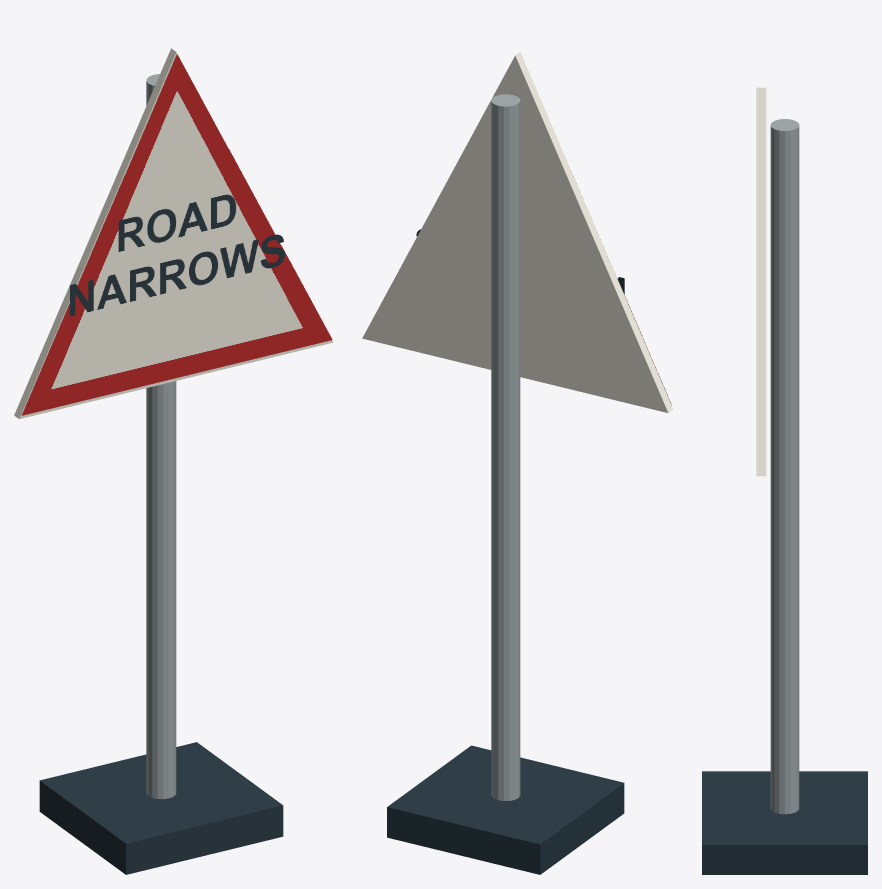
Rendered from scendance-plan-road-narrows.glb.
3 views of the same model, side by side, from view 1: azimuth 30°, elevation 25°; view 2: azimuth 150°, elevation 25°; view 3: azimuth 270°, elevation 25° (orthographic). The views are drawn at different scales.
Bounding box in the file's own units: 0.84 × 2 × 0.4.
Materials: 4 (1 with a texture image).
